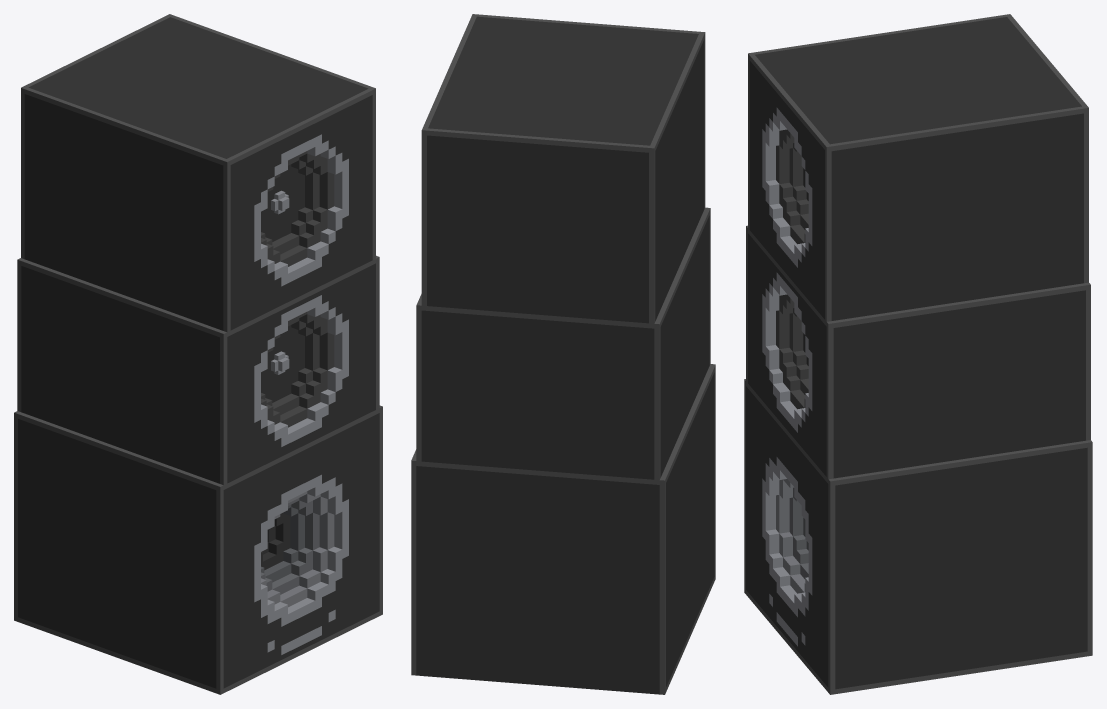
The model's file is speaker_black.001_0_lev1_lev3.glb.
3 renders of one model, left to right at view 1: azimuth 30°, elevation 25°; view 2: azimuth 150°, elevation 25°; view 3: azimuth 270°, elevation 25°, orthographic. The views are drawn at different scales.
Parts seen in each view (by area): view 1: speaker_black.001_0_lev1_lev3; view 2: speaker_black.001_0_lev1_lev3; view 3: speaker_black.001_0_lev1_lev3.
Part boxes in pixels (x1,y1,x2,y2): speaker_black.001_0_lev1_lev3: (14,14,382,694); speaker_black.001_0_lev1_lev3: (411,14,715,694); speaker_black.001_0_lev1_lev3: (744,14,1092,694).
Size of the model in its own units: 0.928 by 1.66 by 0.9641.
1 material, 1 textured.
